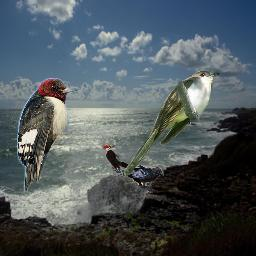Crow: (111, 165, 164, 193)
Cuckoo: (122, 69, 221, 180)
Woodpecker: (17, 78, 80, 193), (102, 145, 134, 173)
